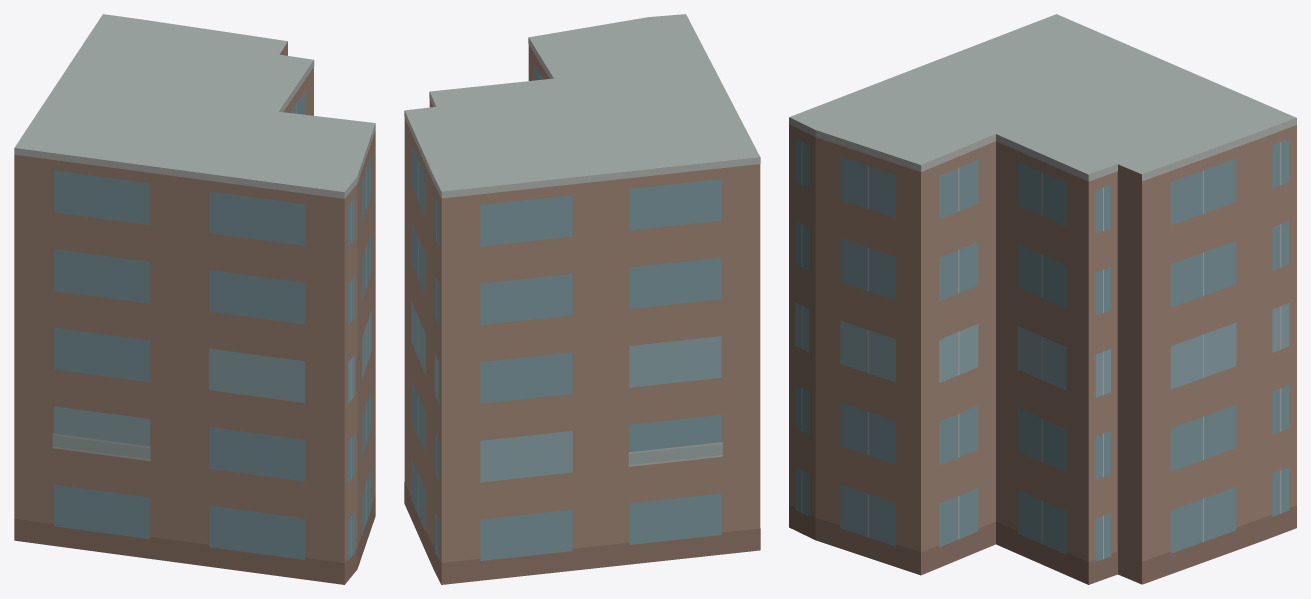
File: survey-upis-32594658.glb
The picture shows the model from 3 angles, left to right: view 1: azimuth 30°, elevation 25°; view 2: azimuth 150°, elevation 25°; view 3: azimuth 270°, elevation 25°; orthographic projection. The views are drawn at different scales.
Parts seen in each view (by area): view 1: survey-upis-32594658.tmp; view 2: survey-upis-32594658.tmp; view 3: survey-upis-32594658.tmp.
Boxes of the visible parts, x1,y1,x2,y2 form: survey-upis-32594658.tmp: (14,14,375,584); survey-upis-32594658.tmp: (404,14,760,584); survey-upis-32594658.tmp: (789,14,1296,584).
Size of the model in its own units: 11.93 by 14.2 by 15.94.
